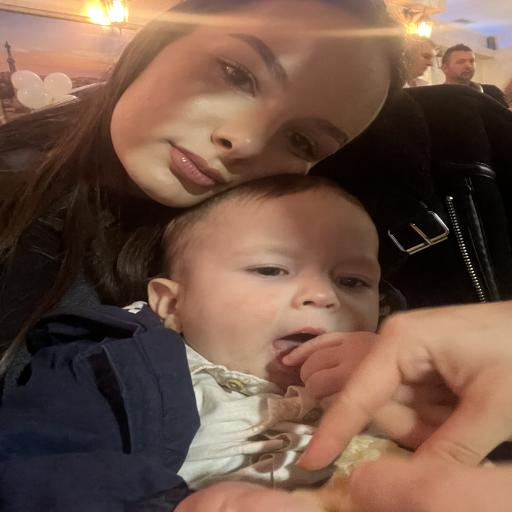marija: (109, 0, 403, 206)
